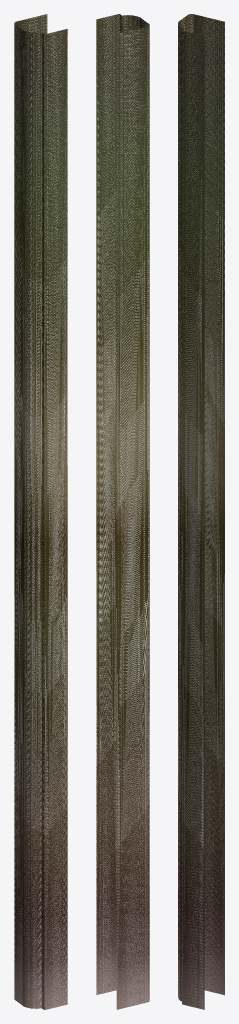
The model's file is original-45.obj.
The picture shows the model from 3 angles, left to right: view 1: azimuth 30°, elevation 25°; view 2: azimuth 210°, elevation 25°; view 3: azimuth 330°, elevation 25°; orthographic projection.
Visible parts, largest first — view 1: DF_41_CL1/DF_41_CL/mesh28/mesh28-geometry#mesh28-geometry; view 2: DF_41_CL1/DF_41_CL/mesh28/mesh28-geometry#mesh28-geometry; view 3: DF_41_CL1/DF_41_CL/mesh28/mesh28-geometry#mesh28-geometry.
Part boxes in pixels (x1,y1,x2,y2): DF_41_CL1/DF_41_CL/mesh28/mesh28-geometry#mesh28-geometry: (14,14,67,1009); DF_41_CL1/DF_41_CL/mesh28/mesh28-geometry#mesh28-geometry: (96,14,149,1009); DF_41_CL1/DF_41_CL/mesh28/mesh28-geometry#mesh28-geometry: (178,14,224,1009).
Size of the model in its own units: 0.0352 by 0.9393 by 0.0352.
